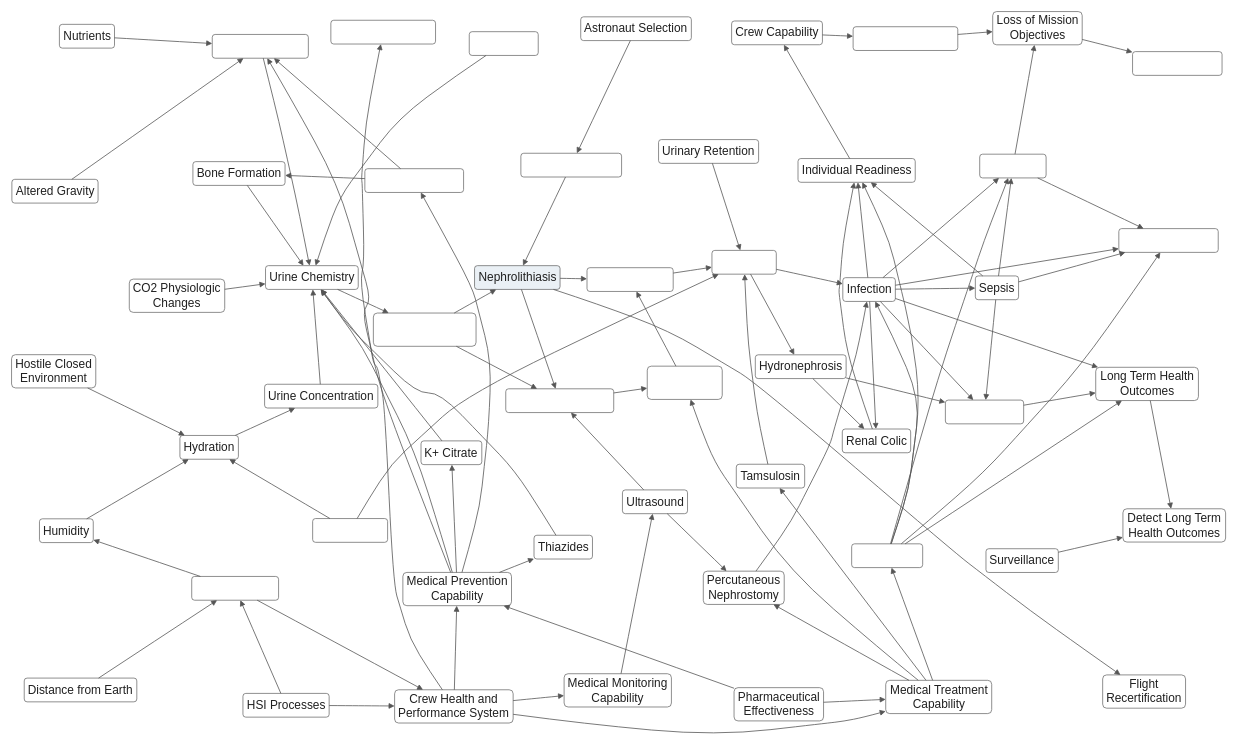
The diagram is 1238 pixels wide and 744 high, and some of its shapes have lost their labels. Each missing label, with the box of its shape:
Bisphosphonates: (364, 168, 464, 192)
Bone Resorption: (212, 34, 308, 58)
Detect MRM/Stone: (505, 388, 614, 413)
Evacuation: (979, 154, 1046, 178)
Individual Factors: (520, 153, 622, 177)
Loss of Crew Life: (1118, 228, 1218, 252)
Loss of Mission: (1132, 51, 1222, 75)
Medications: (851, 543, 923, 568)
Microbiome: (469, 31, 538, 55)
Mineralized Renal Material: (373, 312, 476, 346)
Renal Failure: (945, 399, 1024, 424)
Resistive Exercise: (330, 20, 436, 44)
Task Performance: (852, 26, 958, 50)
Ultrasound Manipulation: (647, 366, 722, 399)
Ureterolithiasis: (586, 267, 673, 291)
Urine Flow: (711, 250, 776, 274)
Vehicle Design: (191, 576, 279, 600)
Water Intake: (312, 518, 388, 542)
